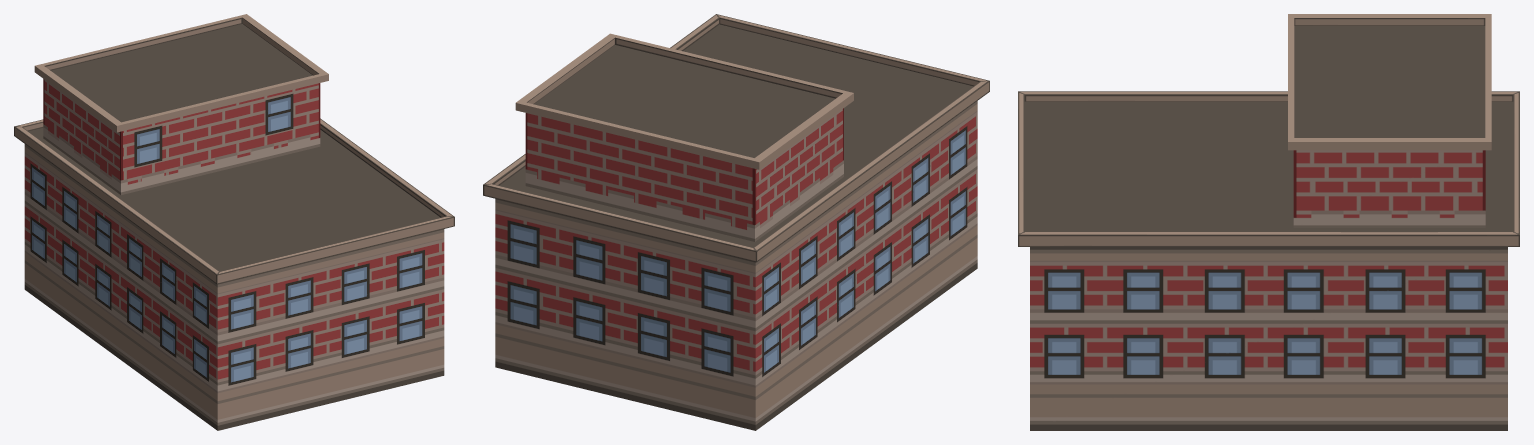
The model's file is Building2A.fbx.
3 views of the same model, side by side, from view 1: azimuth 30°, elevation 25°; view 2: azimuth 150°, elevation 25°; view 3: azimuth 270°, elevation 25° (orthographic). The views are drawn at different scales.
Visible parts, largest first — view 1: pCube7; view 2: pCube7; view 3: pCube7.
Part boxes in pixels (x1,y1,x2,y2): pCube7: (14, 14, 454, 430); pCube7: (483, 14, 989, 430); pCube7: (1018, 14, 1519, 430).
Size of the model in its own units: 4.94 by 4.52 by 7.29.
